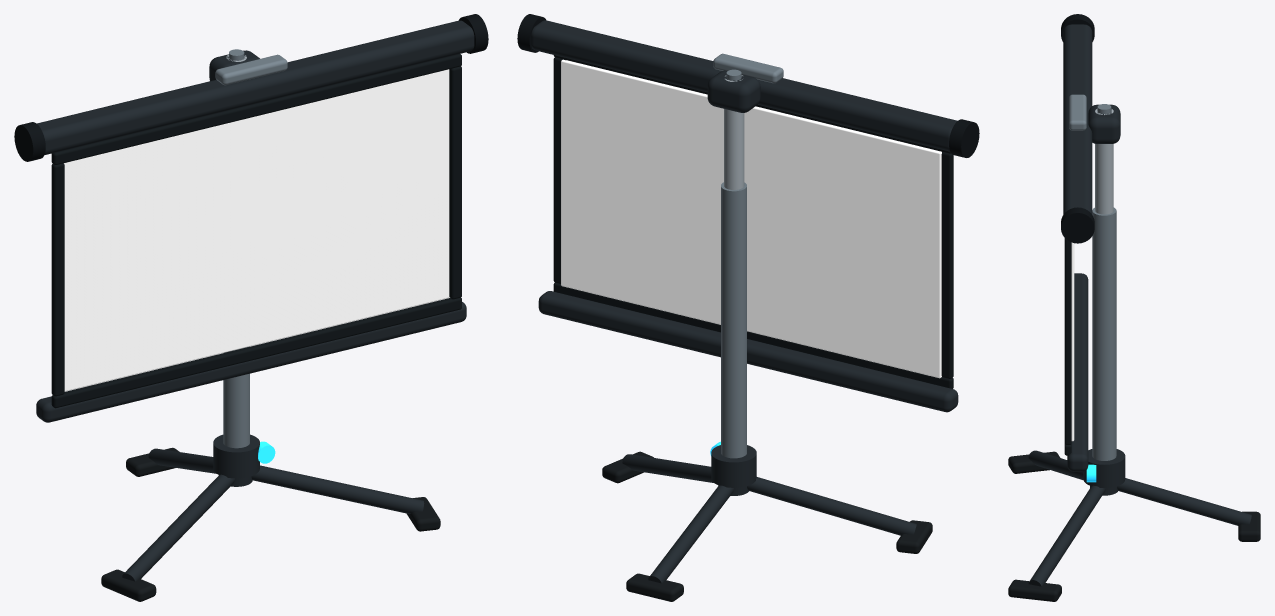
The model's file is projector-screen.glb.
3 views of the same model, side by side, from view 1: azimuth 30°, elevation 25°; view 2: azimuth 150°, elevation 25°; view 3: azimuth 270°, elevation 25° (orthographic). The views are drawn at different scales.
Parts seen in each view (by area): view 1: Matte white projection surface, Retractable roller cassette, Professional portable tripod projection screen, Side black masking border (×2), Bottom black masking border, Weighted lower rail, Top black masking border, Non-slip tripod foot (×3), Lower telescopic support mast, Cassette end cap (×2), Tripod locking collar, Screen pull handle; view 2: Matte white projection surface, Retractable roller cassette, Weighted lower rail, Lower telescopic support mast, Professional portable tripod projection screen, Side black masking border (×2), Bottom black masking border, Non-slip tripod foot (×3), Cassette support bracket, Fully extended upper mast, Tripod locking collar, Screen pull handle (+2 smaller); view 3: Lower telescopic support mast, Retractable roller cassette, Professional portable tripod projection screen, Weighted lower rail, Non-slip tripod foot (×3), Side black masking border, Cassette end cap (×2), Fully extended upper mast, Tripod locking collar, Cassette support bracket, Matte white projection surface, Screen pull handle.
Part boxes in pixels (x1=…): Matte white projection surface: x1=64, y1=69, x2=449, y2=391; Retractable roller cassette: x1=37, y1=20, x2=474, y2=154; Professional portable tripod projection screen: x1=122, y1=448, x2=424, y2=581; Side black masking border (×2): x1=51, y1=66, x2=461, y2=396; Bottom black masking border: x1=51, y1=297, x2=461, y2=408; Weighted lower rail: x1=36, y1=302, x2=466, y2=422; Top black masking border: x1=51, y1=54, x2=461, y2=164; Non-slip tripod foot (×3): x1=101, y1=447, x2=440, y2=601; Lower telescopic support mast: x1=223, y1=346, x2=249, y2=448; Cassette end cap (×2): x1=14, y1=14, x2=488, y2=161; Tripod locking collar: x1=213, y1=434, x2=259, y2=478; Screen pull handle: x1=215, y1=54, x2=287, y2=85; Matte white projection surface: x1=561, y1=59, x2=941, y2=378; Retractable roller cassette: x1=531, y1=20, x2=957, y2=151; Weighted lower rail: x1=538, y1=291, x2=958, y2=412; Lower telescopic support mast: x1=721, y1=182, x2=746, y2=458; Professional portable tripod projection screen: x1=622, y1=454, x2=916, y2=583; Side black masking border (×2): x1=553, y1=57, x2=953, y2=378; Bottom black masking border: x1=553, y1=283, x2=953, y2=388; Non-slip tripod foot (×3): x1=602, y1=451, x2=932, y2=601; Cassette support bracket: x1=707, y1=70, x2=760, y2=112; Fully extended upper mast: x1=724, y1=75, x2=744, y2=189; Tripod locking collar: x1=711, y1=445, x2=756, y2=487; Screen pull handle: x1=713, y1=53, x2=783, y2=83; Lower telescopic support mast: x1=1092, y1=207, x2=1116, y2=460; Retractable roller cassette: x1=1063, y1=24, x2=1092, y2=214; Professional portable tripod projection screen: x1=1028, y1=450, x2=1251, y2=586; Weighted lower rail: x1=1067, y1=273, x2=1088, y2=471; Non-slip tripod foot (×3): x1=1008, y1=451, x2=1260, y2=601; Side black masking border: x1=1064, y1=238, x2=1071, y2=444; Cassette end cap (×2): x1=1061, y1=14, x2=1094, y2=243; Fully extended upper mast: x1=1095, y1=108, x2=1113, y2=214; Tripod locking collar: x1=1083, y1=449, x2=1125, y2=488; Cassette support bracket: x1=1088, y1=104, x2=1120, y2=143; Matte white projection surface: x1=1071, y1=242, x2=1074, y2=441; Screen pull handle: x1=1069, y1=94, x2=1086, y2=130.
Size of the model in its own units: 2.92 by 2.91 by 1.57.
